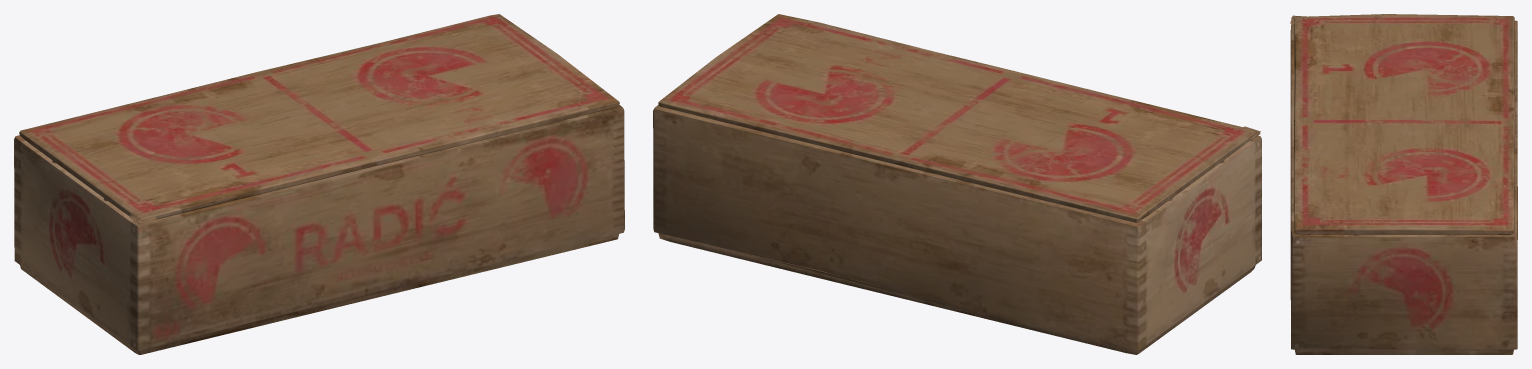
Rendered from CheeseBox_01.glb.
3 renders of one model, left to right at view 1: azimuth 30°, elevation 25°; view 2: azimuth 150°, elevation 25°; view 3: azimuth 270°, elevation 25°, orthographic. The views are drawn at different scales.
Parts seen in each view (by area): view 1: CheeseBox_01; view 2: CheeseBox_01; view 3: CheeseBox_01.
Part boxes in pixels (box(x1,y1,x2,y2)): CheeseBox_01: box(14, 14, 624, 354); CheeseBox_01: box(653, 14, 1261, 354); CheeseBox_01: box(1290, 14, 1517, 354).
Size of the model in its own units: 0.2404 by 0.066 by 0.1065.
1 material, 1 textured.
